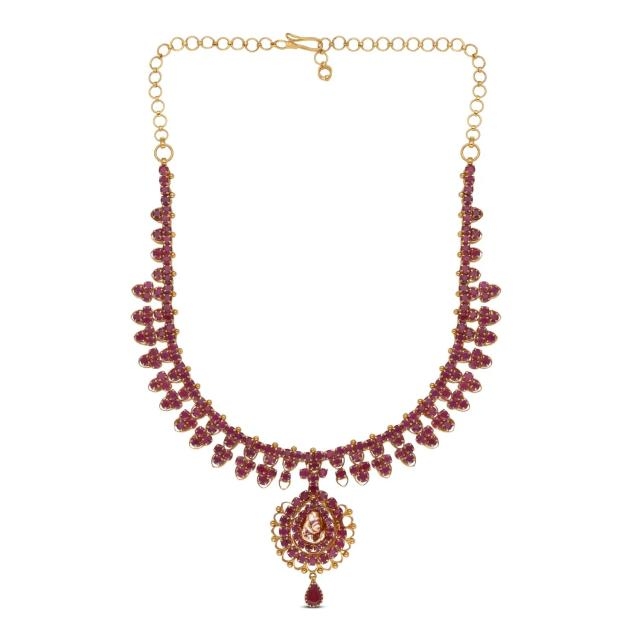missing gem: (302, 512, 326, 543)
